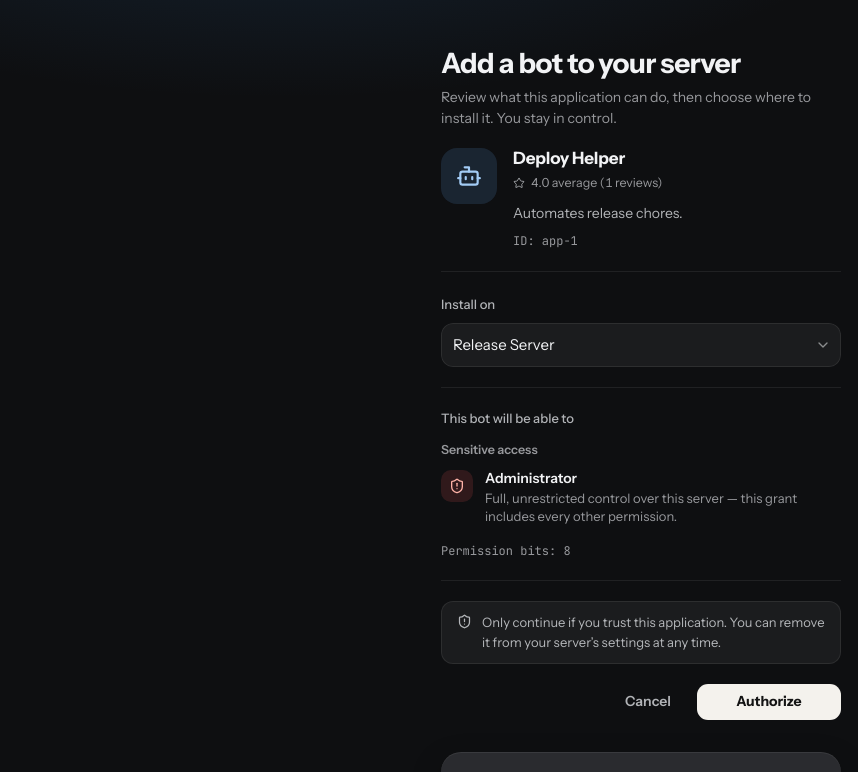
Test: BotAuthorizePage review flow › shows API details when authorization fails
Check: the heading "Deploy Helper" is shown, box [513, 148, 625, 168]
Click the button "Authorize" at (769, 702), box [697, 684, 841, 720]
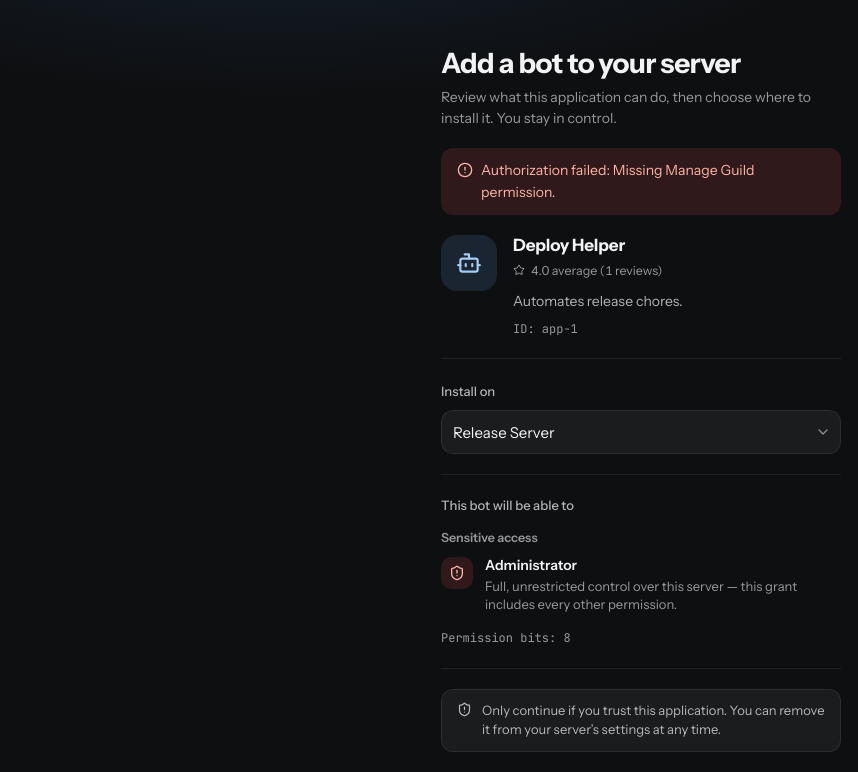
Check: the message reads "Authorization failed: Missing Manage Guild permission.", box [481, 161, 755, 201]
